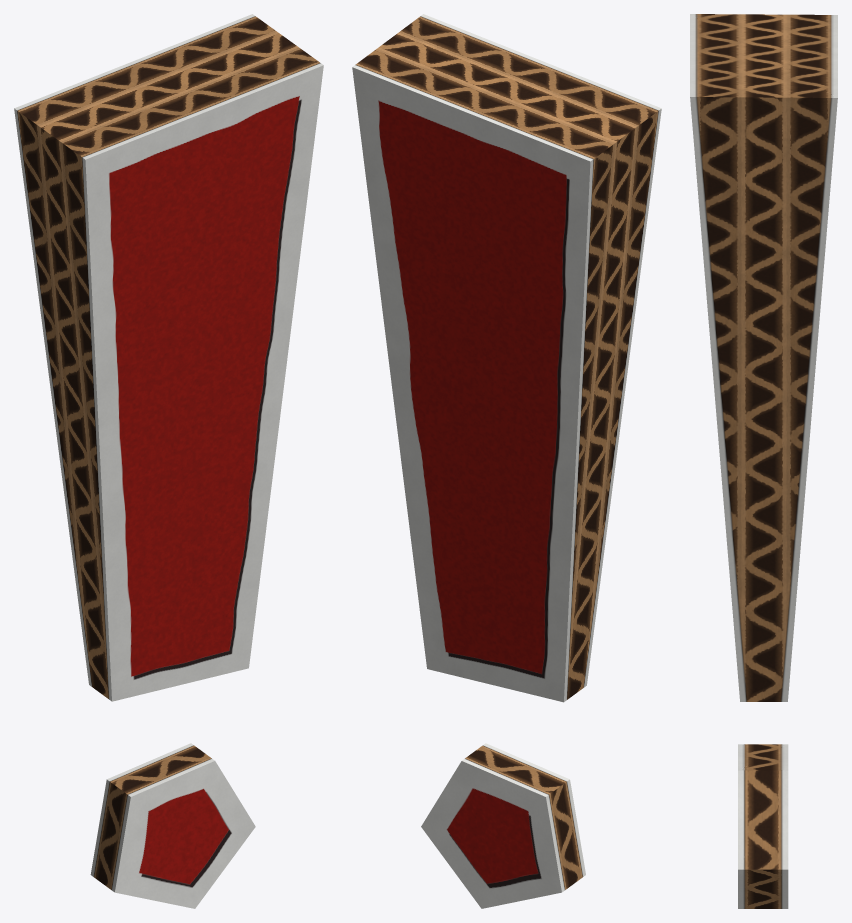
Rendered from exclamation_mark.fbx.
3 renders of one model, left to right at view 1: azimuth 30°, elevation 25°; view 2: azimuth 150°, elevation 25°; view 3: azimuth 270°, elevation 25°, orthographic. The views are drawn at different scales.
Visible parts, largest first — view 1: Bar, Dot; view 2: Bar, Dot; view 3: Bar, Dot.
Boxes of the visible parts, box(x1,y1,x2,y2) form: Bar: box(14, 14, 323, 701); Dot: box(90, 743, 255, 908); Bar: box(352, 14, 661, 702); Dot: box(421, 743, 585, 908); Bar: box(690, 14, 837, 701); Dot: box(738, 744, 788, 908).
Size of the model in its own units: 1.55 by 5.18 by 0.8025.
1 material, 1 textured.
